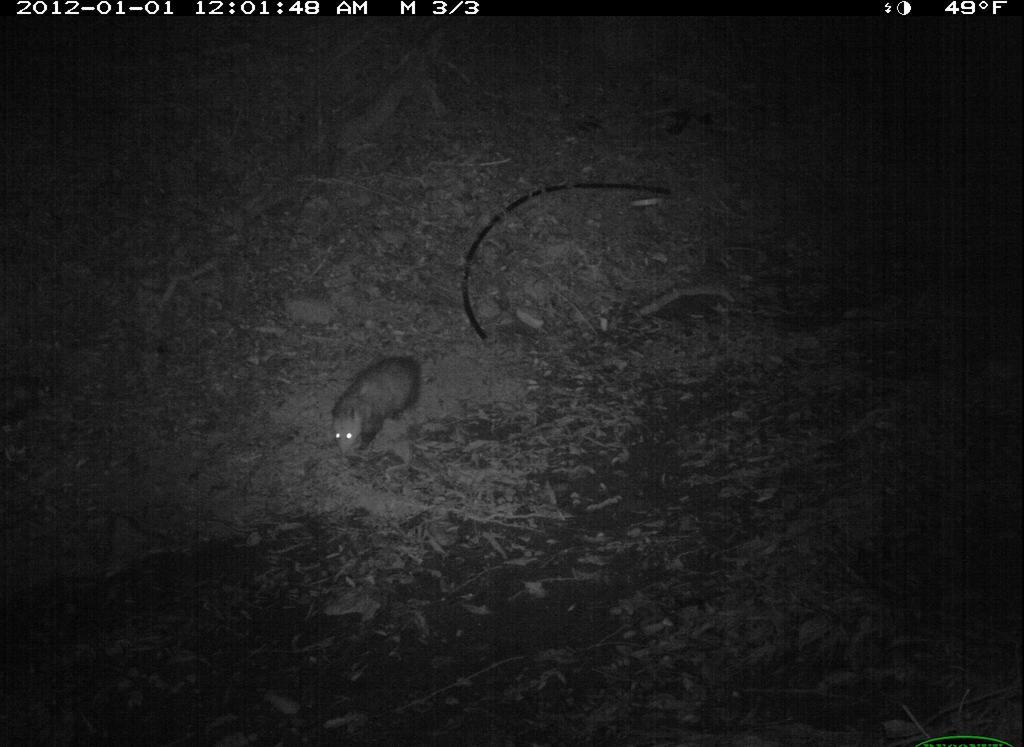opossum: (319, 342, 484, 470)
